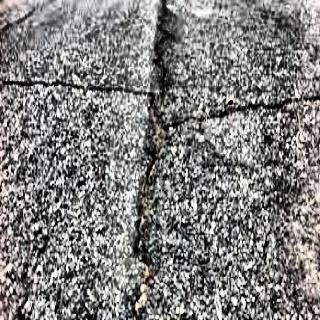crack: (134, 0, 177, 320), (1, 71, 161, 105), (164, 96, 320, 128)
